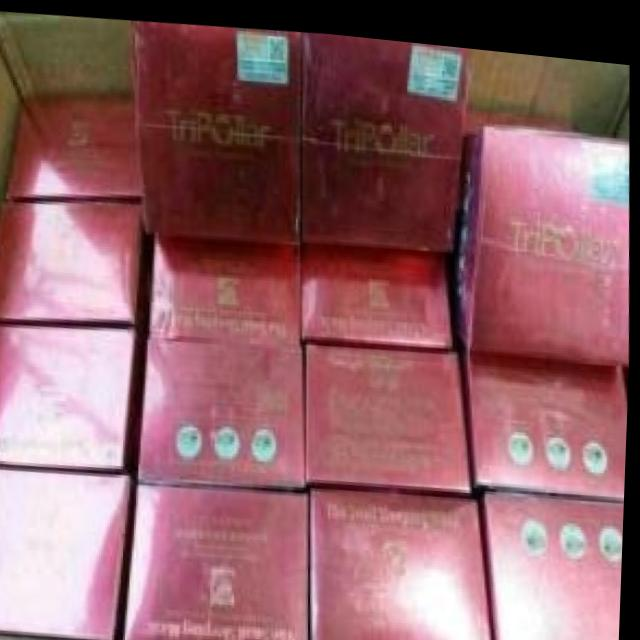box: (450, 100, 629, 352), (132, 22, 303, 234), (303, 28, 469, 245), (311, 480, 496, 640), (127, 481, 311, 640), (139, 335, 307, 481), (308, 337, 473, 484), (464, 342, 629, 483), (0, 468, 136, 638), (486, 478, 627, 640), (0, 322, 138, 465), (0, 195, 144, 321), (151, 228, 303, 338), (303, 237, 454, 337), (7, 90, 143, 197)
